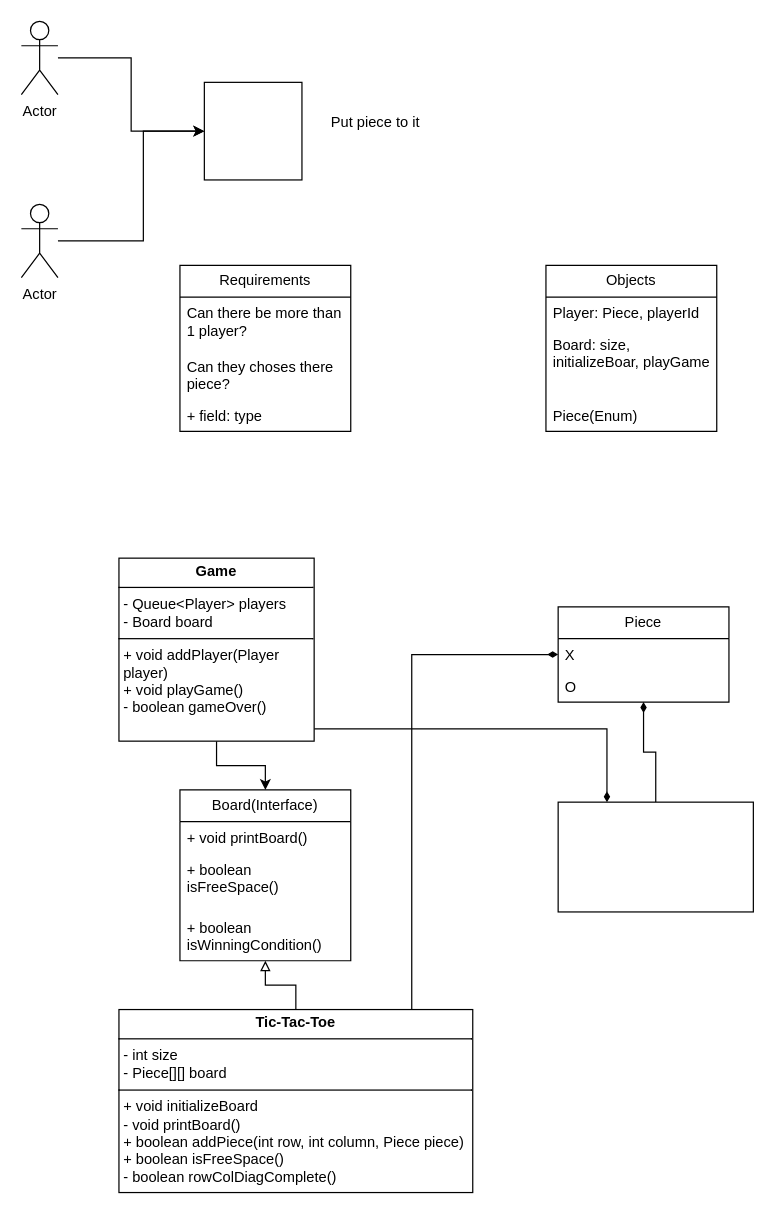
This 775x1214 diagram has some shape labels left out. The centre of each missing label's shape, as x and y in pixels:
Board: the point at 252,130
Player - int playerId - Piece piece + method(): Type: the point at 655,856
